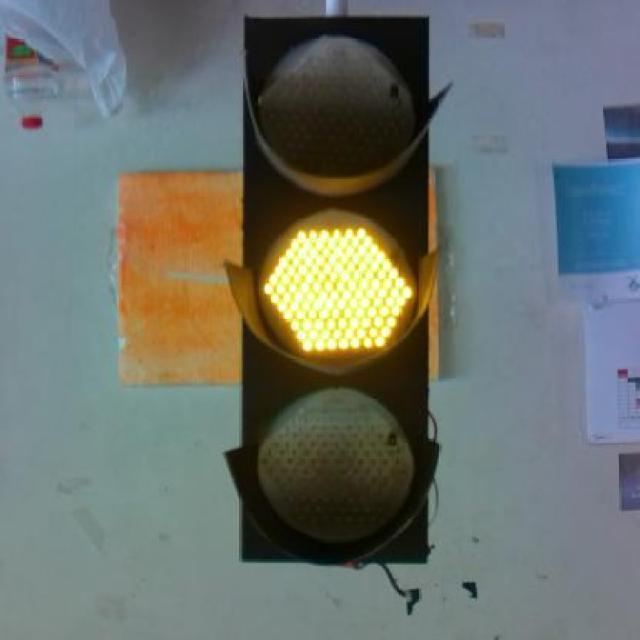yellow_light: (227, 16, 447, 565)
